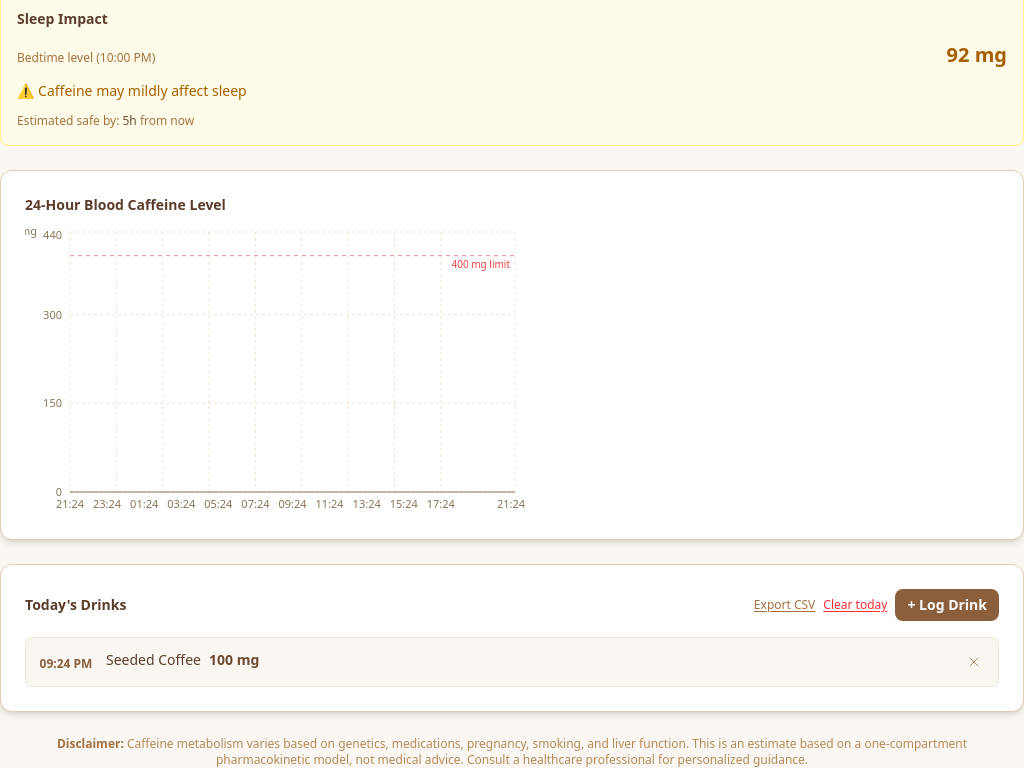
Test: MetabolismTracker › clears today's entries when Clear today is clicked
(page scrolled)
Expected: the text "Seeded Coffee" is shown, [106,650,201,670]
Click the button "Clear today": [855, 605] box [823,597,887,613]
(page scrolled)
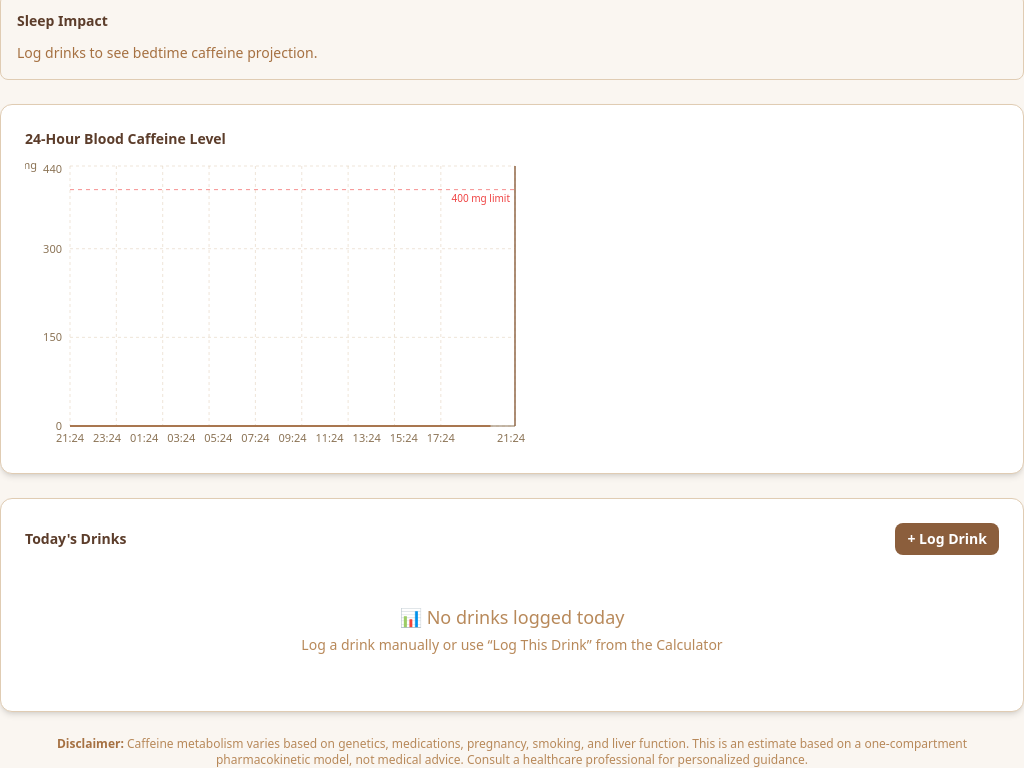
Expected: the text "📊 No drinks logged today" is shown, [400,605,624,629]
